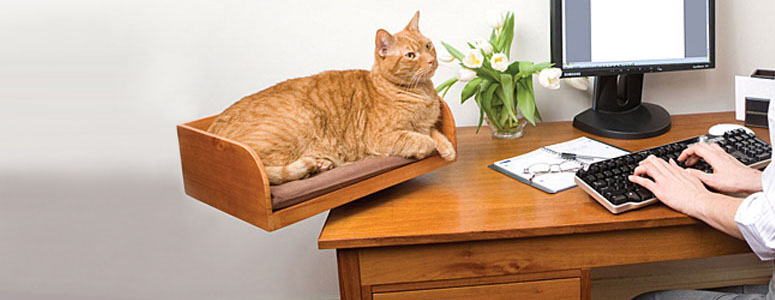cat: (198, 17, 458, 183)
tvmonitor: (534, 3, 719, 140)
